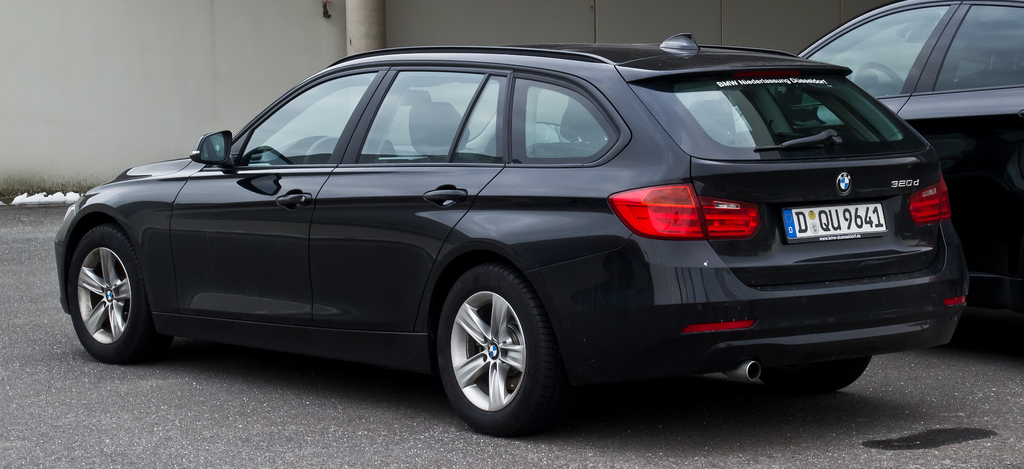license plate: (782, 210, 889, 241)
